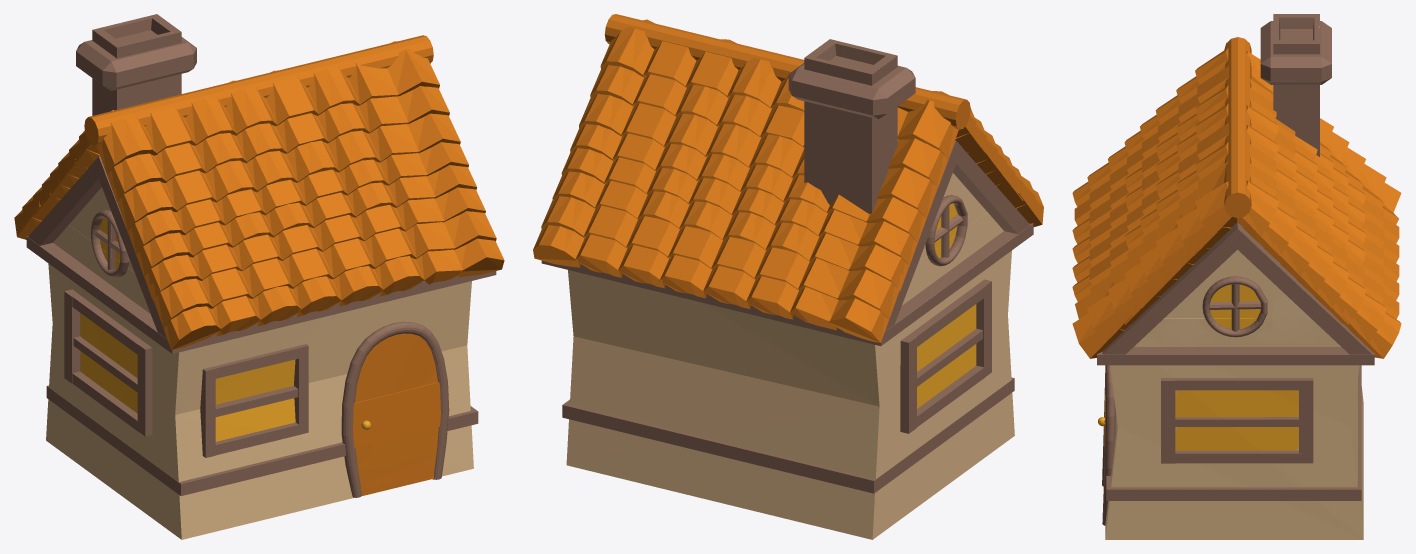
The model's file is OrangeCW_House1.obj.
3 renders of one model, left to right at view 1: azimuth 30°, elevation 25°; view 2: azimuth 150°, elevation 25°; view 3: azimuth 270°, elevation 25°, orthographic. The views are drawn at different scales.
Visible parts, largest first — view 1: ROOF1_lambert5SG, house_body1_blinn2SG, FRAMES1_standardSurface6SG, door2_phongE1SG, chimney_phong3SG, WINDOWSCIRCLE_standardSurface5SG; view 2: ROOF1_lambert5SG, house_body1_blinn2SG, FRAMES1_standardSurface6SG, chimney_phong3SG, WINDOWSCIRCLE_standardSurface5SG; view 3: ROOF1_lambert5SG, house_body1_blinn2SG, FRAMES1_standardSurface6SG, chimney_phong3SG, WINDOWSCIRCLE_standardSurface5SG.
Part boxes in pixels (x1,y1,x2,y2): ROOF1_lambert5SG: (14,35,504,349); house_body1_blinn2SG: (46,187,473,539); FRAMES1_standardSurface6SG: (26,156,496,497); door2_phongE1SG: (353,333,440,495); chimney_phong3SG: (76,14,196,115); WINDOWSCIRCLE_standardSurface5SG: (90,210,129,277); ROOF1_lambert5SG: (533,14,1043,342); house_body1_blinn2SG: (566,173,1014,539); FRAMES1_standardSurface6SG: (541,140,1033,493); chimney_phong3SG: (788,39,915,213); WINDOWSCIRCLE_standardSurface5SG: (925,195,967,266); ROOF1_lambert5SG: (1072,37,1401,358); house_body1_blinn2SG: (1105,249,1363,539); FRAMES1_standardSurface6SG: (1097,222,1374,525); chimney_phong3SG: (1260,14,1331,156); WINDOWSCIRCLE_standardSurface5SG: (1202,276,1267,337).
Size of the model in its own units: 2.65 by 3.19 by 2.37.
7 materials, 7 textured.
